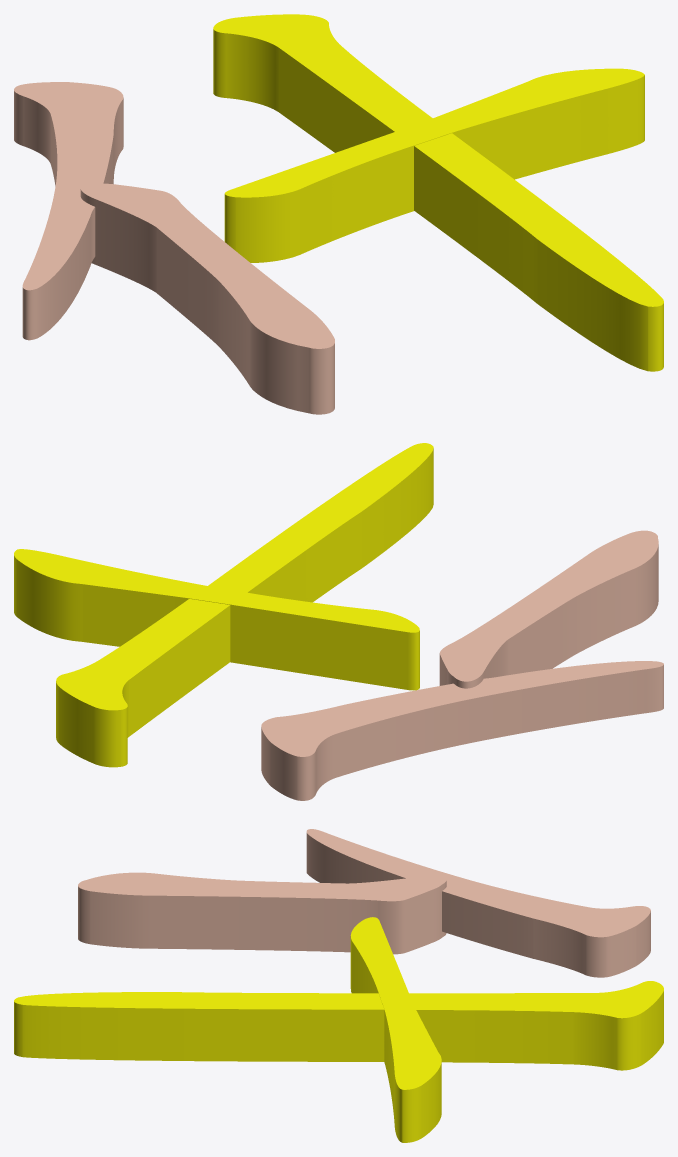
Rendered from hanzi25.fbx.
3 renders of one model, top to bottom at view 1: azimuth 30°, elevation 25°; view 2: azimuth 150°, elevation 25°; view 3: azimuth 270°, elevation 25°, orthographic. The views are drawn at different scales.
Parts seen in each view (by area): view 1: Curve.003, Curve.002, Curve.001, Curve; view 2: Curve.003, Curve.002, Curve, Curve.001; view 3: Curve.003, Curve.001, Curve, Curve.002.
Part boxes in pixels (x1,y1,x2,y2): Curve.003: (213,14,663,371); Curve.002: (224,68,644,262); Curve.001: (80,183,334,414); Curve: (14,82,123,340); Curve.003: (56,443,433,767); Curve.002: (14,549,419,690); Curve: (261,661,663,800); Curve.001: (439,530,658,688); Curve.003: (14,981,663,1070); Curve.001: (78,872,446,954); Curve: (306,829,650,977); Curve.002: (350,917,441,1142).
Bounding box in the file's own units: 24.83 × 25.53 × 2.3.
